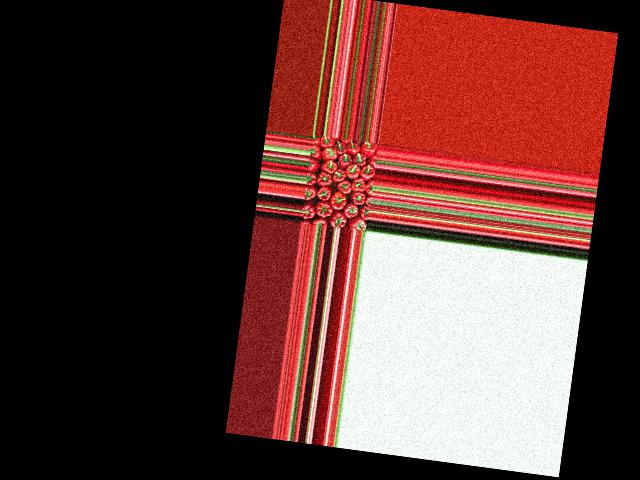bell_pepper: (361, 142, 377, 157)
